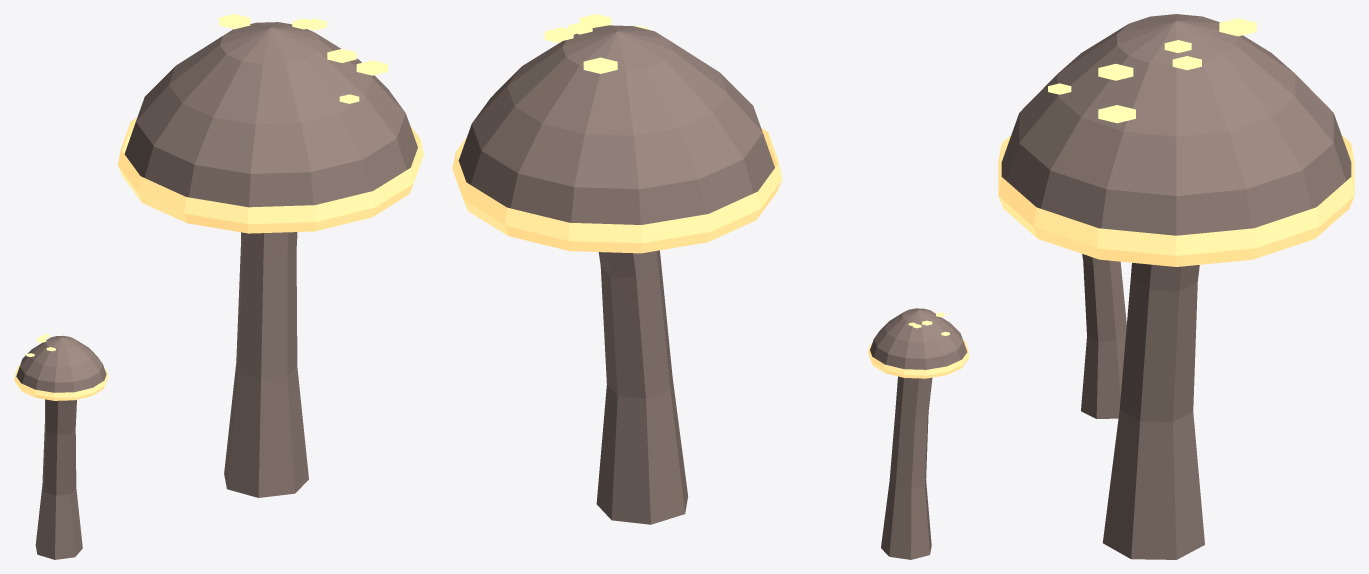
The model's file is cap_v03.glb.
The picture shows the model from 3 angles, left to right: view 1: azimuth 30°, elevation 25°; view 2: azimuth 150°, elevation 25°; view 3: azimuth 270°, elevation 25°; orthographic projection. The views are drawn at different scales.
Visible parts, largest first — view 1: mushroom_cap_flesh_nocol, mushroom_cap_glow_nocol; view 2: mushroom_cap_flesh_nocol, mushroom_cap_glow_nocol; view 3: mushroom_cap_flesh_nocol, mushroom_cap_glow_nocol.
Boxes of the visible parts, x1,y1,x2,y2 form: mushroom_cap_flesh_nocol: [16, 22, 417, 559]; mushroom_cap_glow_nocol: [14, 14, 423, 400]; mushroom_cap_flesh_nocol: [458, 25, 967, 559]; mushroom_cap_glow_nocol: [452, 14, 969, 378]; mushroom_cap_flesh_nocol: [1001, 14, 1351, 559]; mushroom_cap_glow_nocol: [998, 18, 1354, 266].
Size of the model in its own units: 1.56 by 1.58 by 0.964.
